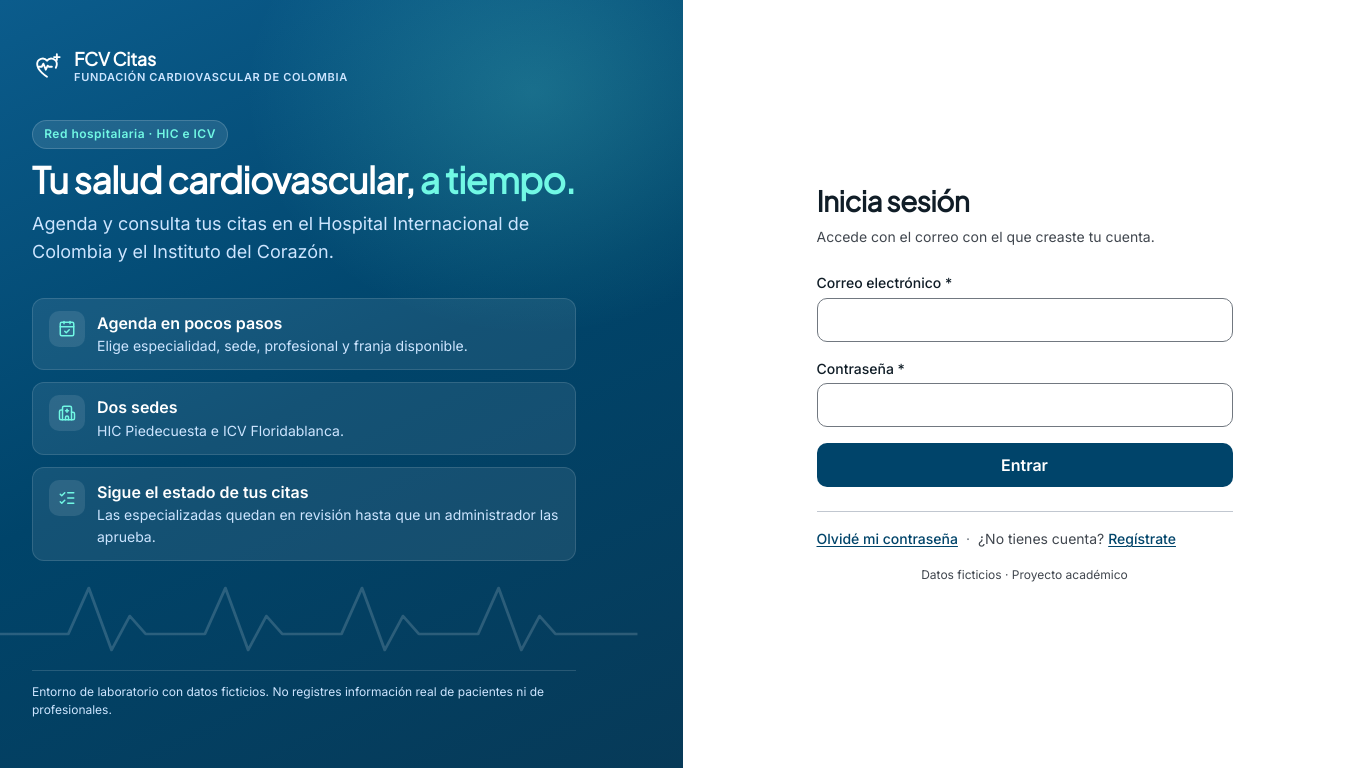
Test: navegación por rol (HU-005 CA-08) › el PROFESSIONAL entra a /profesional y ve solo su navegación
Type "persona@fcv.test" into the field labelled "Correo electrónico *" at point(1024, 320), box [816, 298, 1232, 342]
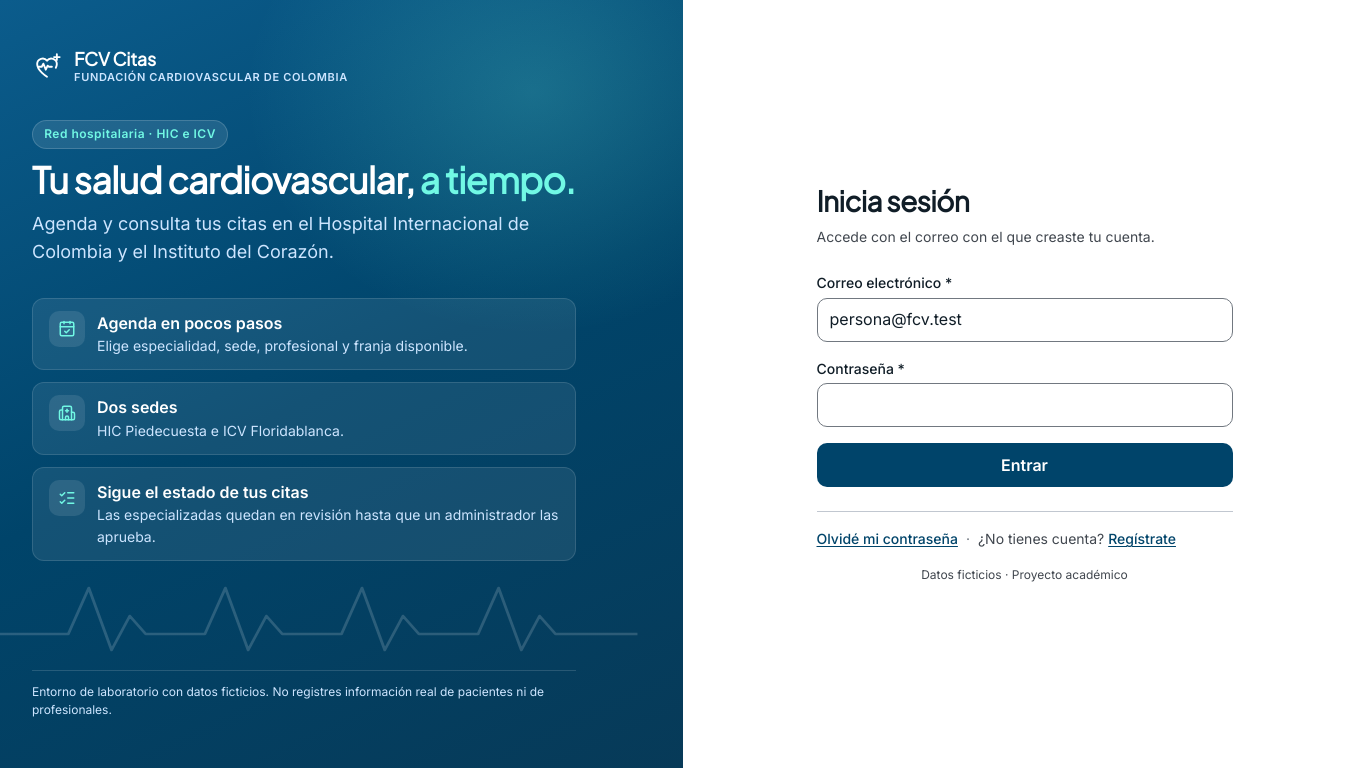
Type "Clave-Secreta#2026" into the password field labelled "Contraseña *" at point(1024, 405), box [816, 383, 1232, 427]
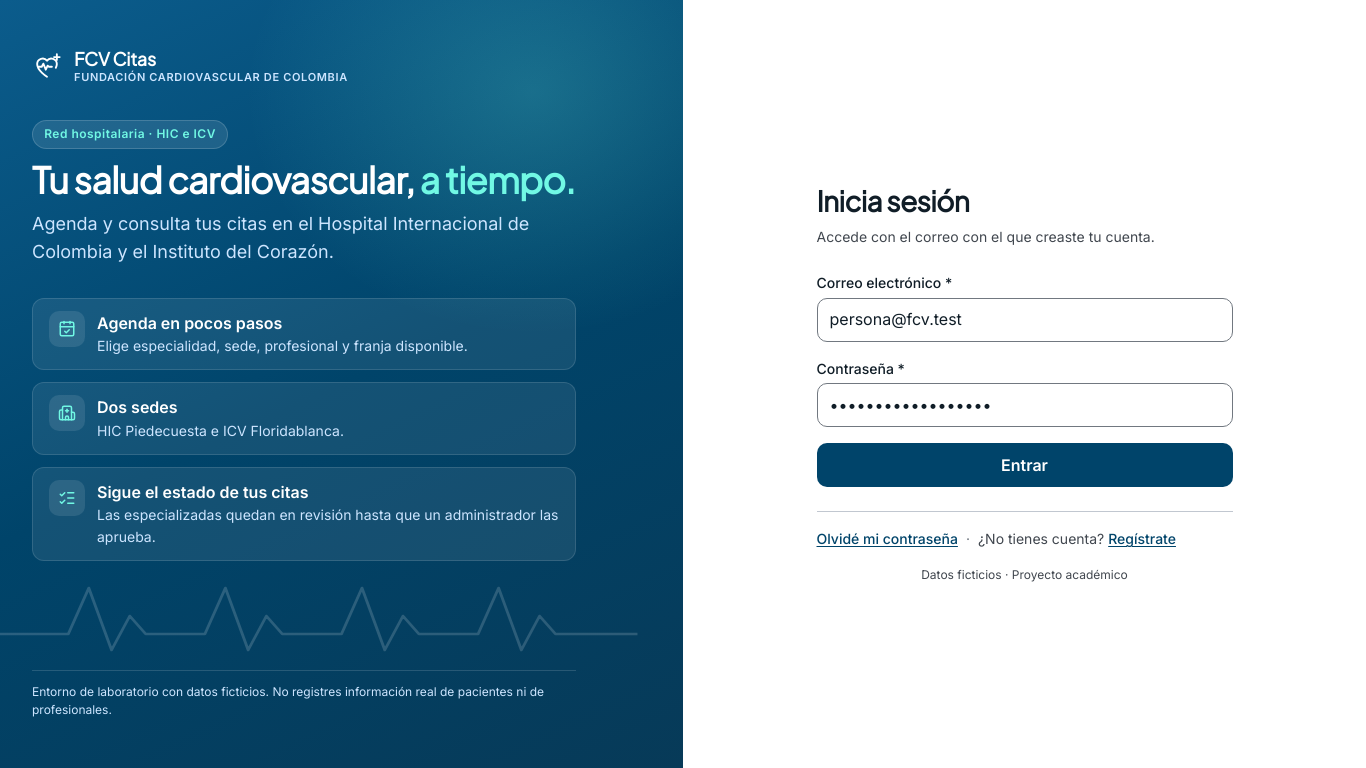
Click the button "Entrar" at point(1024, 465), box [816, 443, 1232, 487]
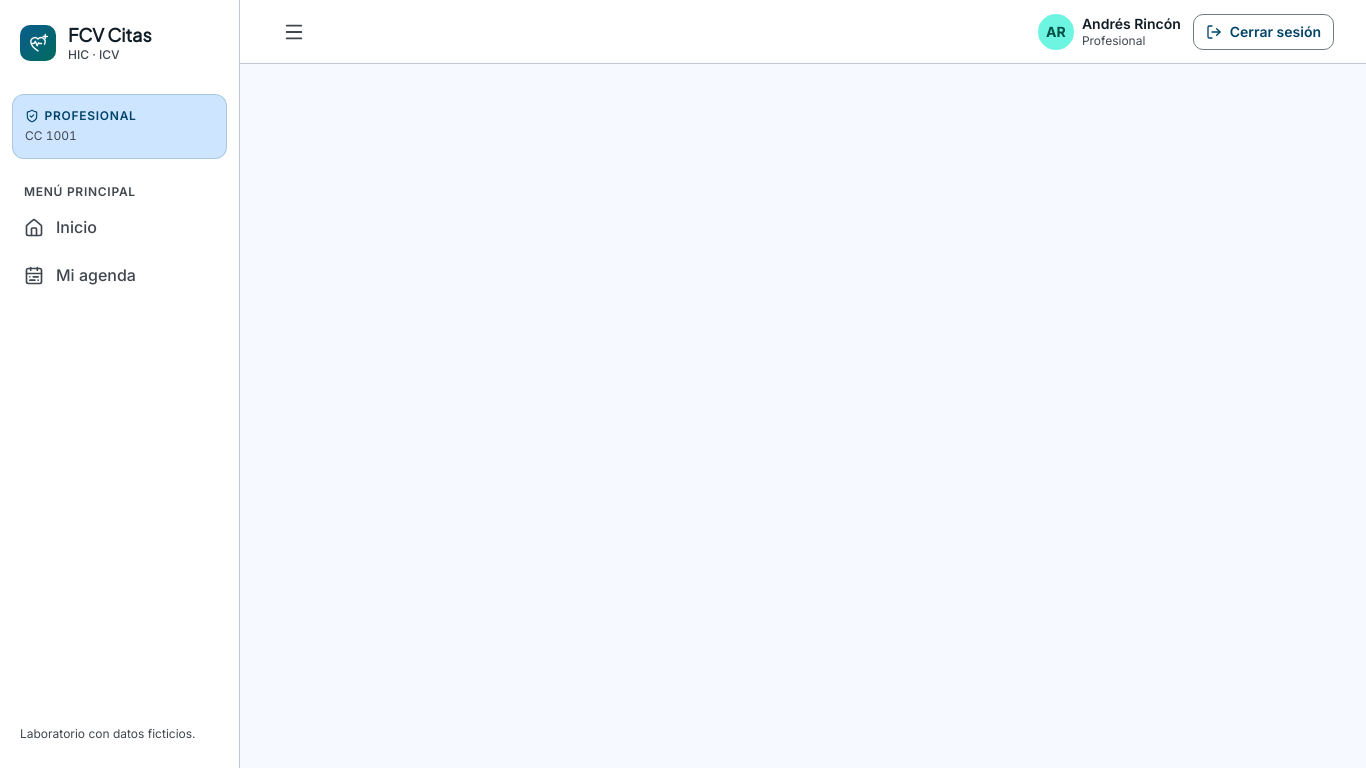
Expected: the text "Andrés Rincón" is shown, [1082, 15, 1181, 33]
